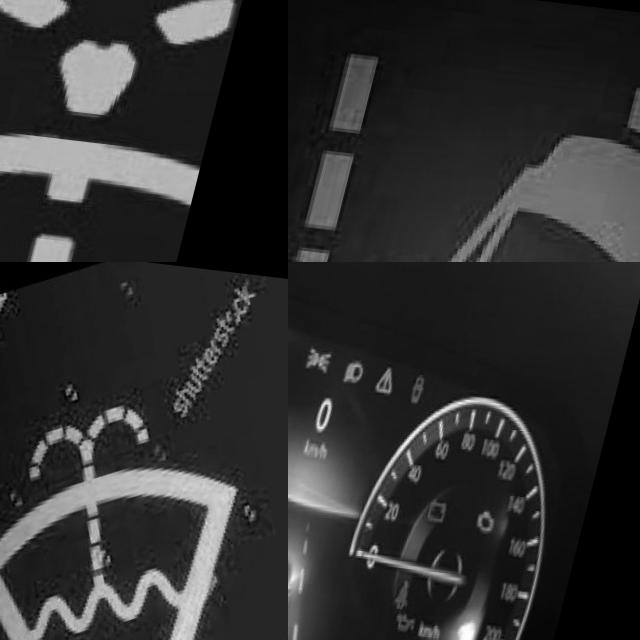Washer Fluid: (0, 0, 254, 262), (0, 390, 262, 640)
